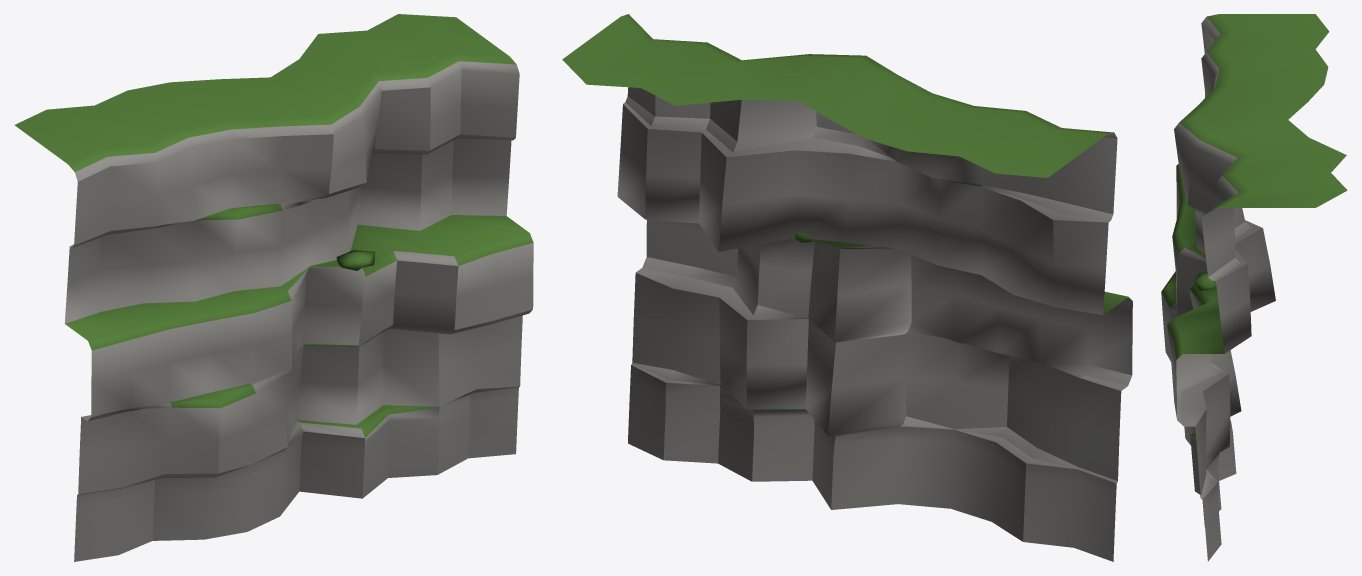
File: cliff_straight_30_lod1.glb
The picture shows the model from 3 angles, left to right: view 1: azimuth 30°, elevation 25°; view 2: azimuth 150°, elevation 25°; view 3: azimuth 270°, elevation 25°; orthographic projection. The views are drawn at different scales.
Parts seen in each view (by area): view 1: cliff_straight_30_lod1; view 2: cliff_straight_30_lod1; view 3: cliff_straight_30_lod1.
Part boxes in pixels (left/top/right/bottom): cliff_straight_30_lod1: left=14, top=14, right=533, bottom=561; cliff_straight_30_lod1: left=562, top=14, right=1132, bottom=561; cliff_straight_30_lod1: left=1161, top=14, right=1347, bottom=561.
Size of the model in its own units: 40 by 34 by 16.24.
